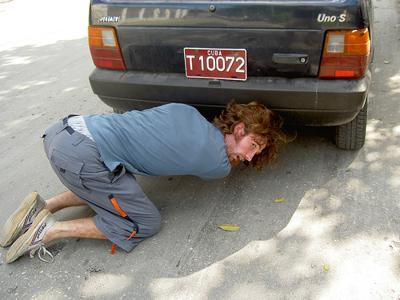person: (1, 95, 286, 266)
